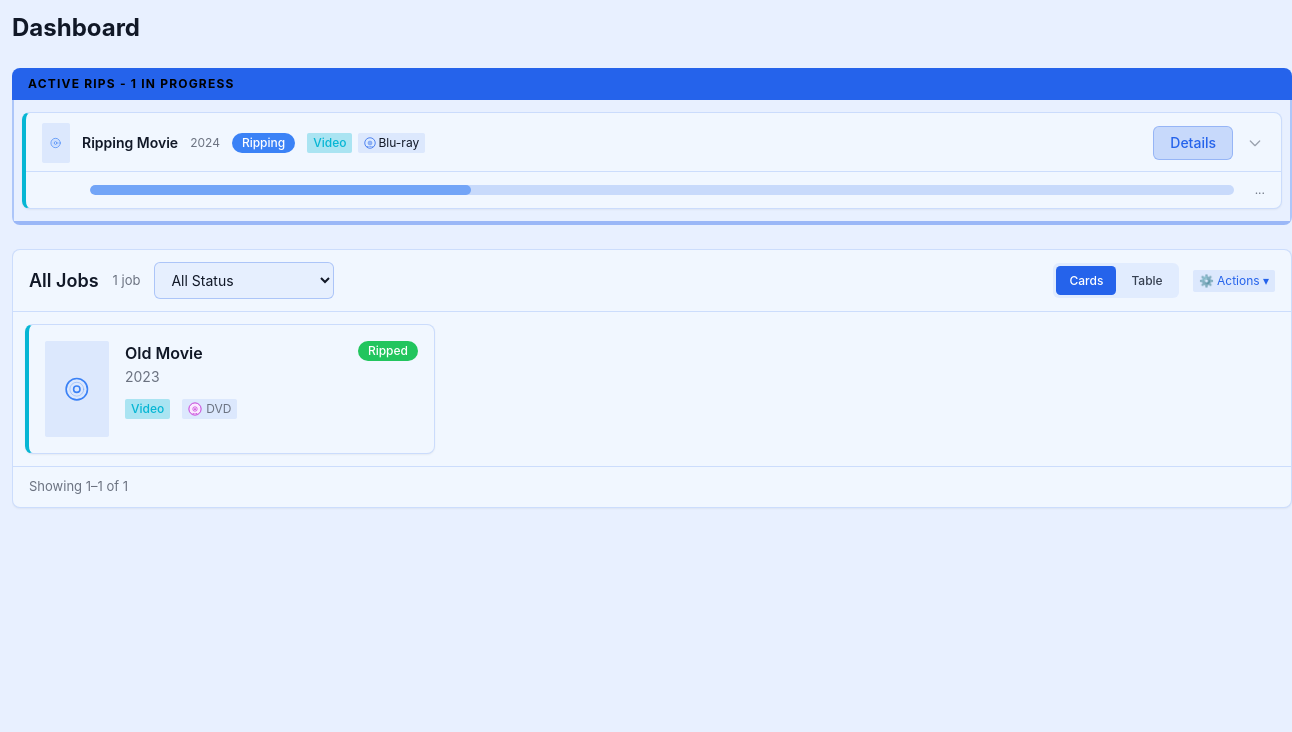
it: Dashboard Page › view mode toggle › table view shows Title column header
Expected: the heading "Dashboard" is shown, x1=12 y1=12 x2=140 y2=44
What coordinates should you click on to do the following:
click the button "Table"
I would click on:
 (1147, 280)
Its box is x1=1118 y1=266 x2=1176 y2=295.
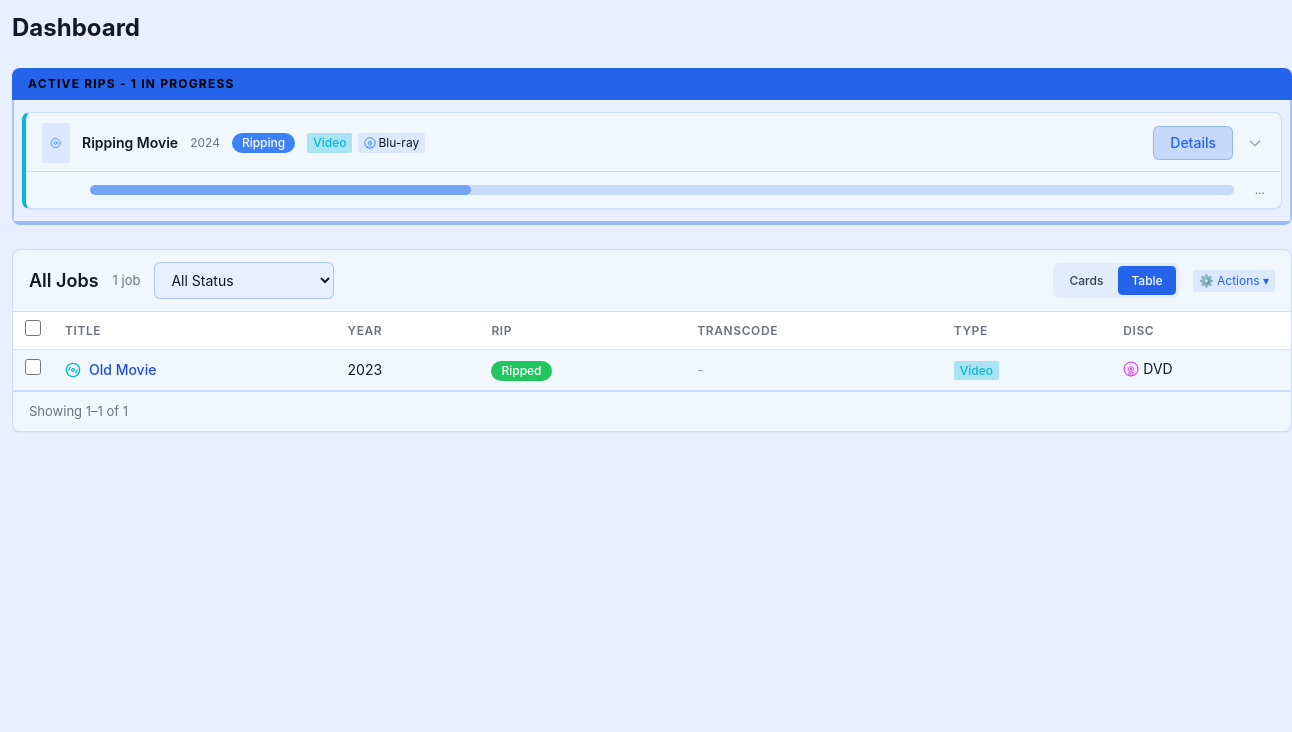
Now the column heading "Title" is shown, box x1=53 y1=312 x2=336 y2=350
